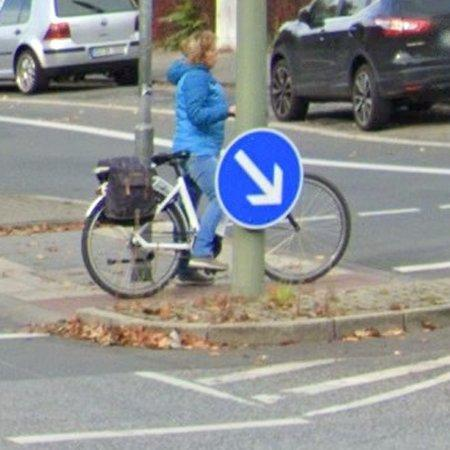bicycles: (268, 175, 352, 283)
